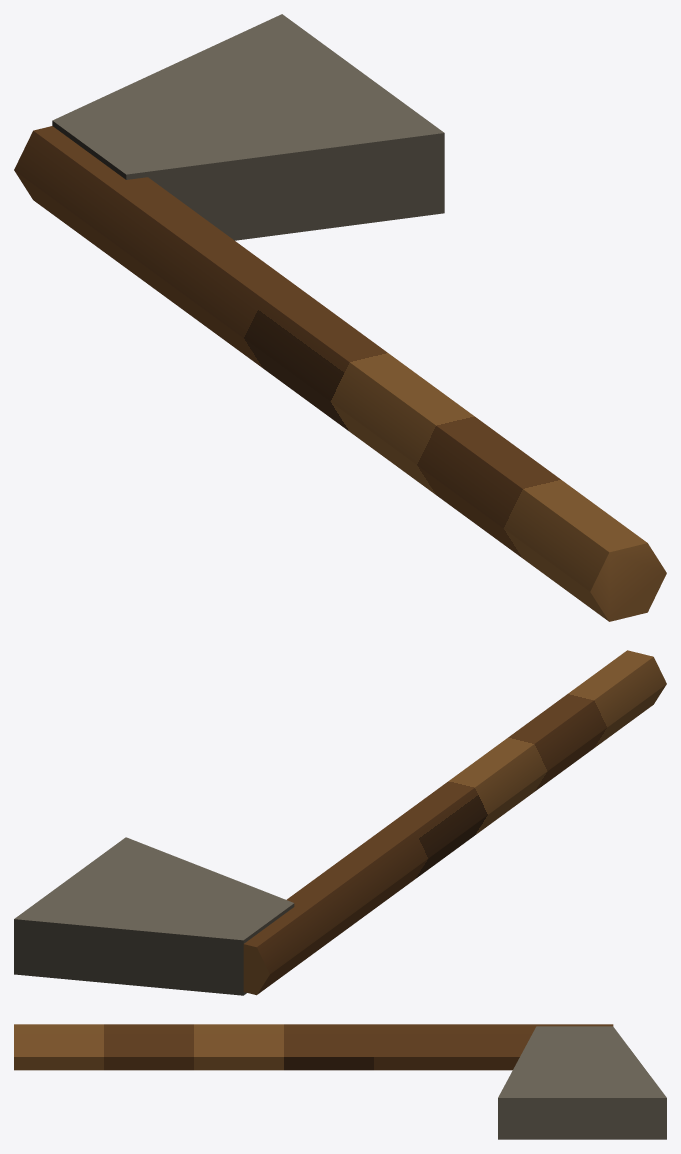
File: prop.tool.glb
3 renders of one model, top to bottom at view 1: azimuth 30°, elevation 25°; view 2: azimuth 150°, elevation 25°; view 3: azimuth 270°, elevation 25°, orthographic. The views are drawn at different scales.
Visible parts, largest first — view 1: kit_tool, kit_tool_head; view 2: kit_tool, kit_tool_head; view 3: kit_tool, kit_tool_head.
Boxes of the visible parts, x1,y1,x2,y2 form: kit_tool: (14, 126, 666, 621); kit_tool_head: (52, 14, 444, 240); kit_tool: (243, 650, 666, 995); kit_tool_head: (14, 837, 294, 995); kit_tool: (14, 1024, 613, 1070); kit_tool_head: (498, 1026, 666, 1139).
Bounding box in the file's own units: 0.1 × 0.024 × 0.34.
Materials: 2 (1 with a texture image).
